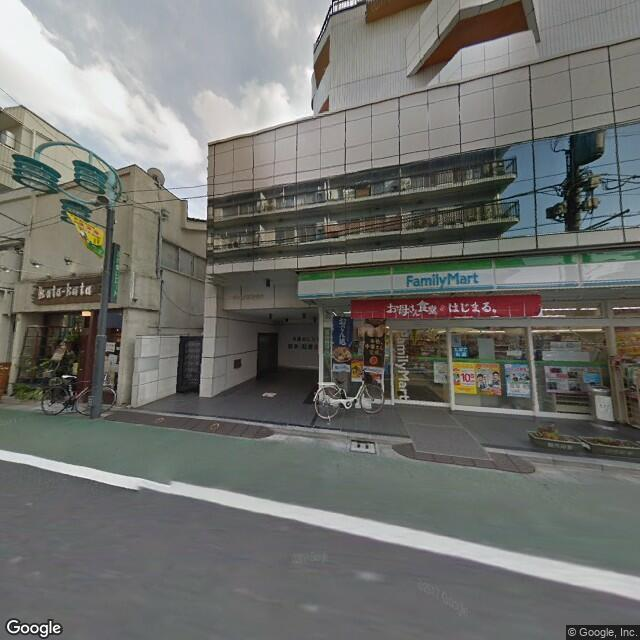family_mart: (295, 240, 638, 303), (402, 265, 485, 293)
